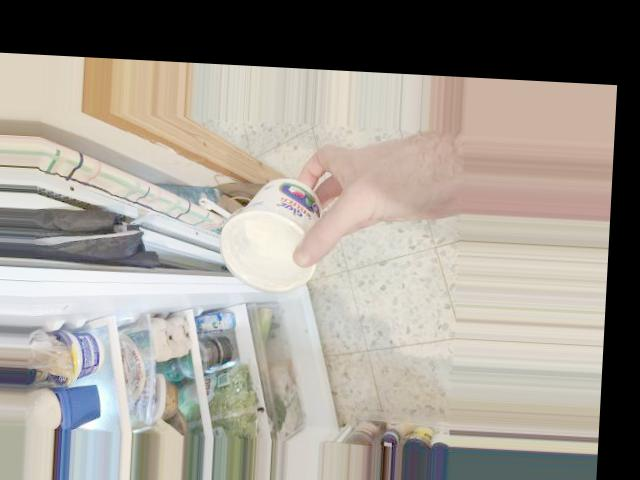cotage: (216, 170, 332, 294)
